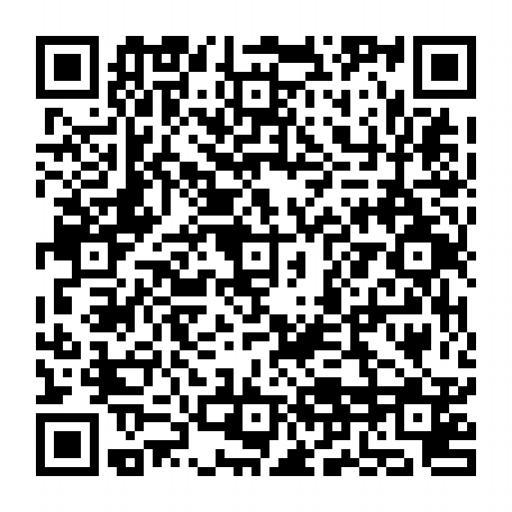qr_code: (35, 36, 476, 477)
